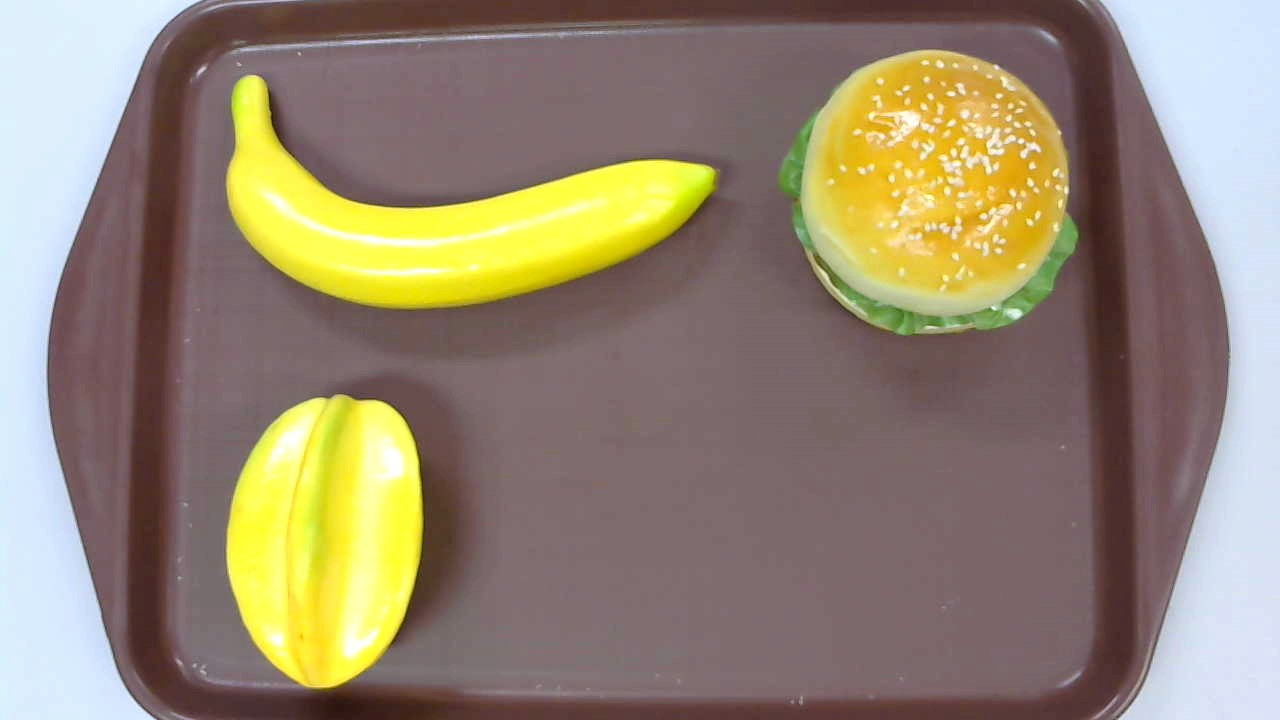banana: (226, 74, 725, 312)
hamburger: (779, 49, 1078, 337)
star fruit: (225, 391, 423, 690)
